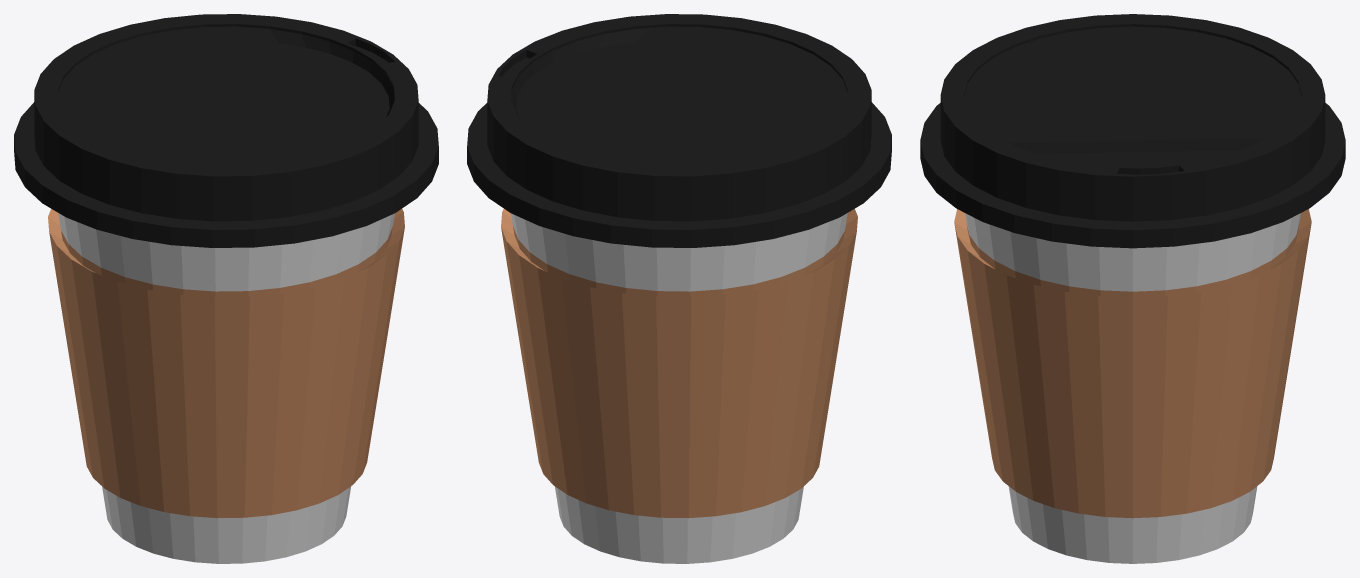
The model's file is Stakan1.fbx.
3 renders of one model, left to right at view 1: azimuth 30°, elevation 25°; view 2: azimuth 150°, elevation 25°; view 3: azimuth 270°, elevation 25°, orthographic.
Visible parts, largest first — view 1: Цилиндр; view 2: Цилиндр; view 3: Цилиндр.
Part boxes in pixels (x1,y1,x2,y2): Цилиндр: (14,14,438,563); Цилиндр: (467,14,891,563); Цилиндр: (920,14,1345,563).
Bounding box in the file's own units: 217 × 236 × 217.
